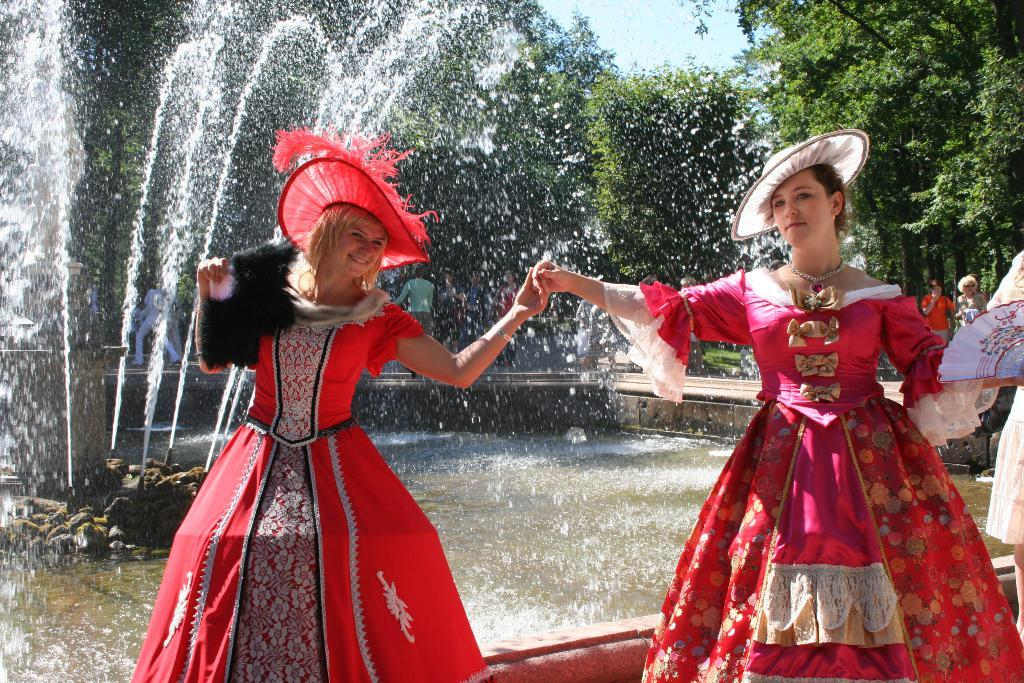Hat: (264, 118, 440, 272), (726, 128, 866, 242)
